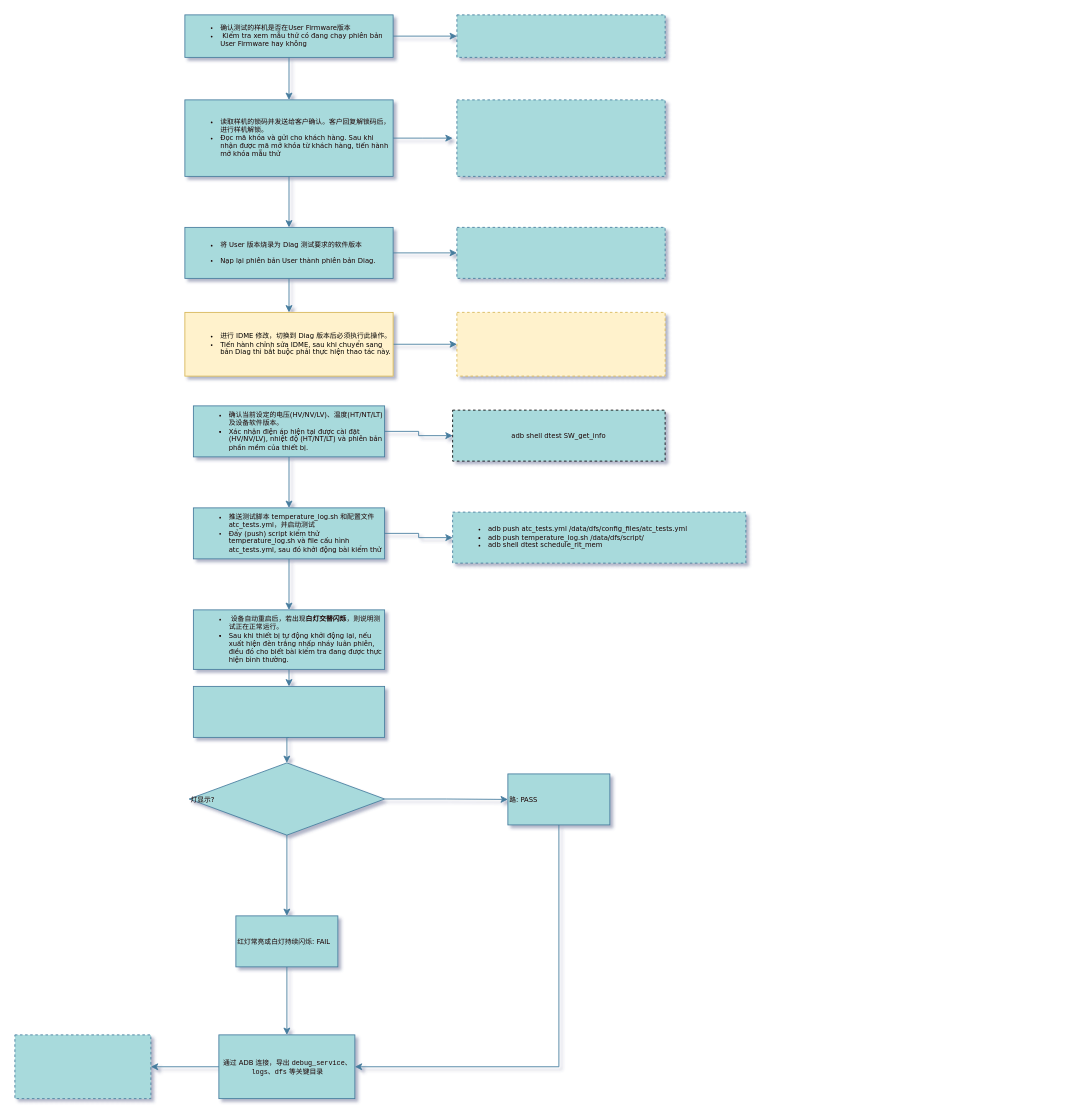
Image size: 1076x1119. Some labels were removed from this diagram. The centre of each missing label's shape, as x and y in pixels:
"adb pull /data/debug_service ." belongs at point (82, 1066).
"adb shell cat /etc/os-release" belongs at point (560, 35).
"adb shell idme dev_flags 0x600440 adb shell idme fos_flags 0xa7 adb reboot" belongs at point (560, 344).
"python flashimage.py" belongs at point (560, 252).
"无需下发指令，有软件已集成此功能" belongs at point (560, 137).
"检查测试结果" belongs at point (289, 711).
